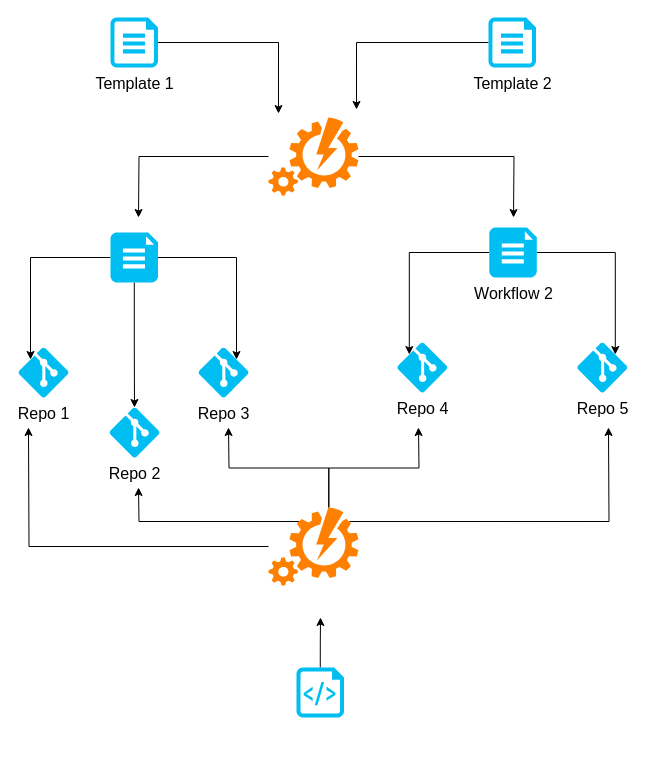
The diagram is 645 pixels wide and 760 high, and some of its shapes have lost their labels. The shapes that lost their labels are listed below. From the top down, each one's centre as x and y in pixels, then its label:
At (313,156): "Workflow Generator Tool".
At (134,257): "Workflow 1".
At (313,546): "Secret Setting Tool".
At (320,692): "Script 1".
